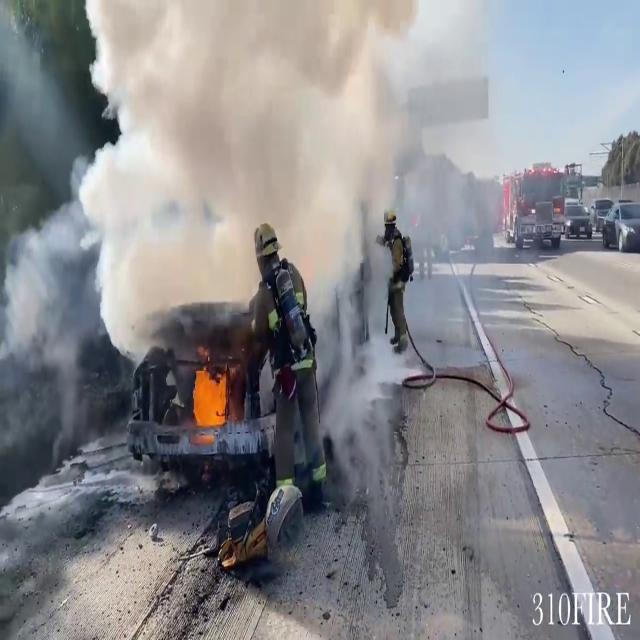Fire: (189, 356, 233, 436)
Smoke: (24, 0, 496, 326)
